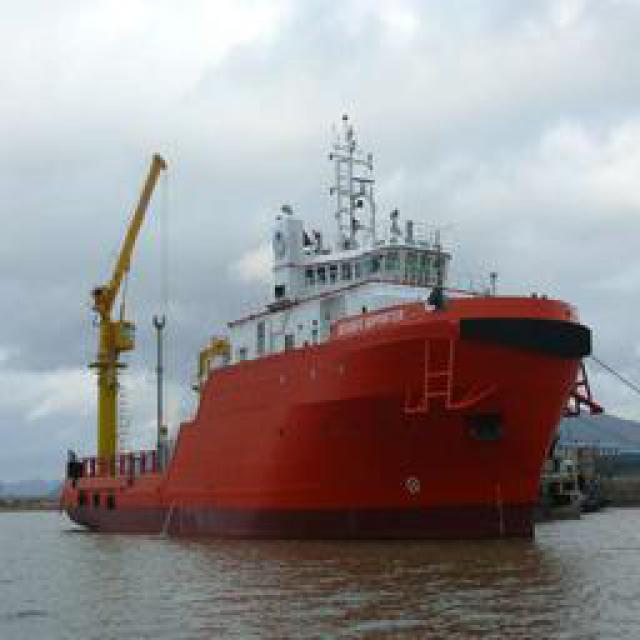Ship: (70, 101, 600, 536)
